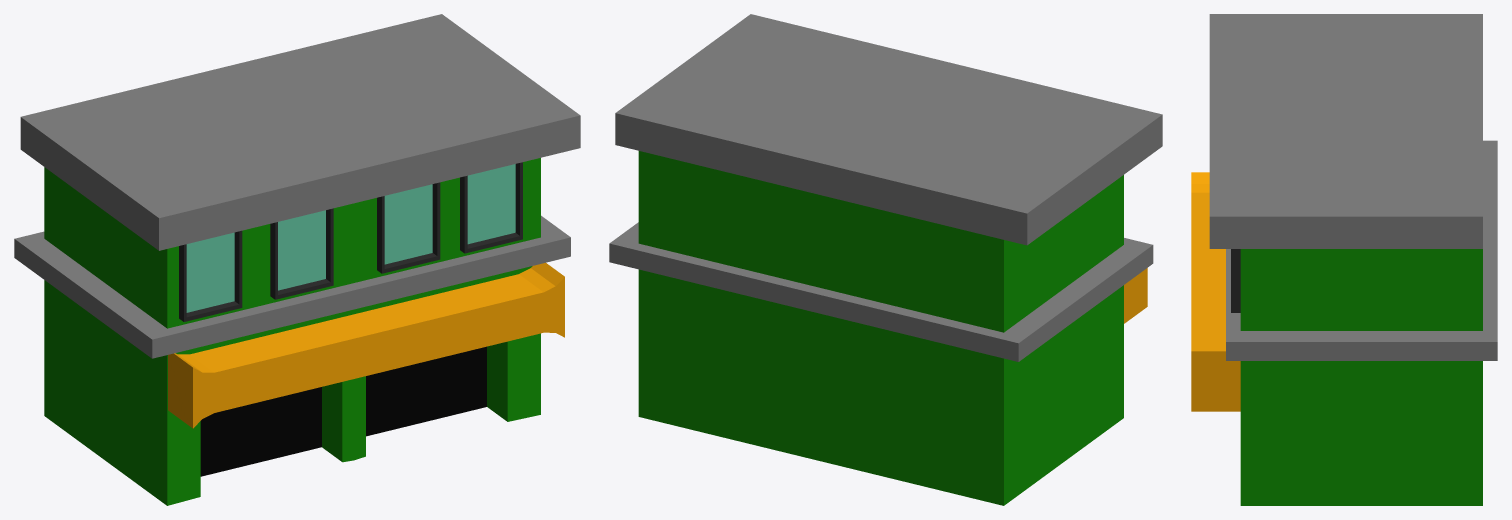
Rendered from PredioGenericoEscalavelVerde.fbx.
3 views of the same model, side by side, from view 1: azimuth 30°, elevation 25°; view 2: azimuth 150°, elevation 25°; view 3: azimuth 270°, elevation 25° (orthographic). The views are drawn at different scales.
Parts seen in each view (by area): view 1: LojaGenericaEscalavel; view 2: LojaGenericaEscalavel; view 3: LojaGenericaEscalavel.
Part boxes in pixels (box(x1,y1,x2,y2)): LojaGenericaEscalavel: box(14, 14, 580, 505); LojaGenericaEscalavel: box(609, 14, 1162, 505); LojaGenericaEscalavel: box(1191, 14, 1497, 505).
Size of the model in its own units: 1095 by 757 by 699.
Materials: 1 (1 with a texture image).
